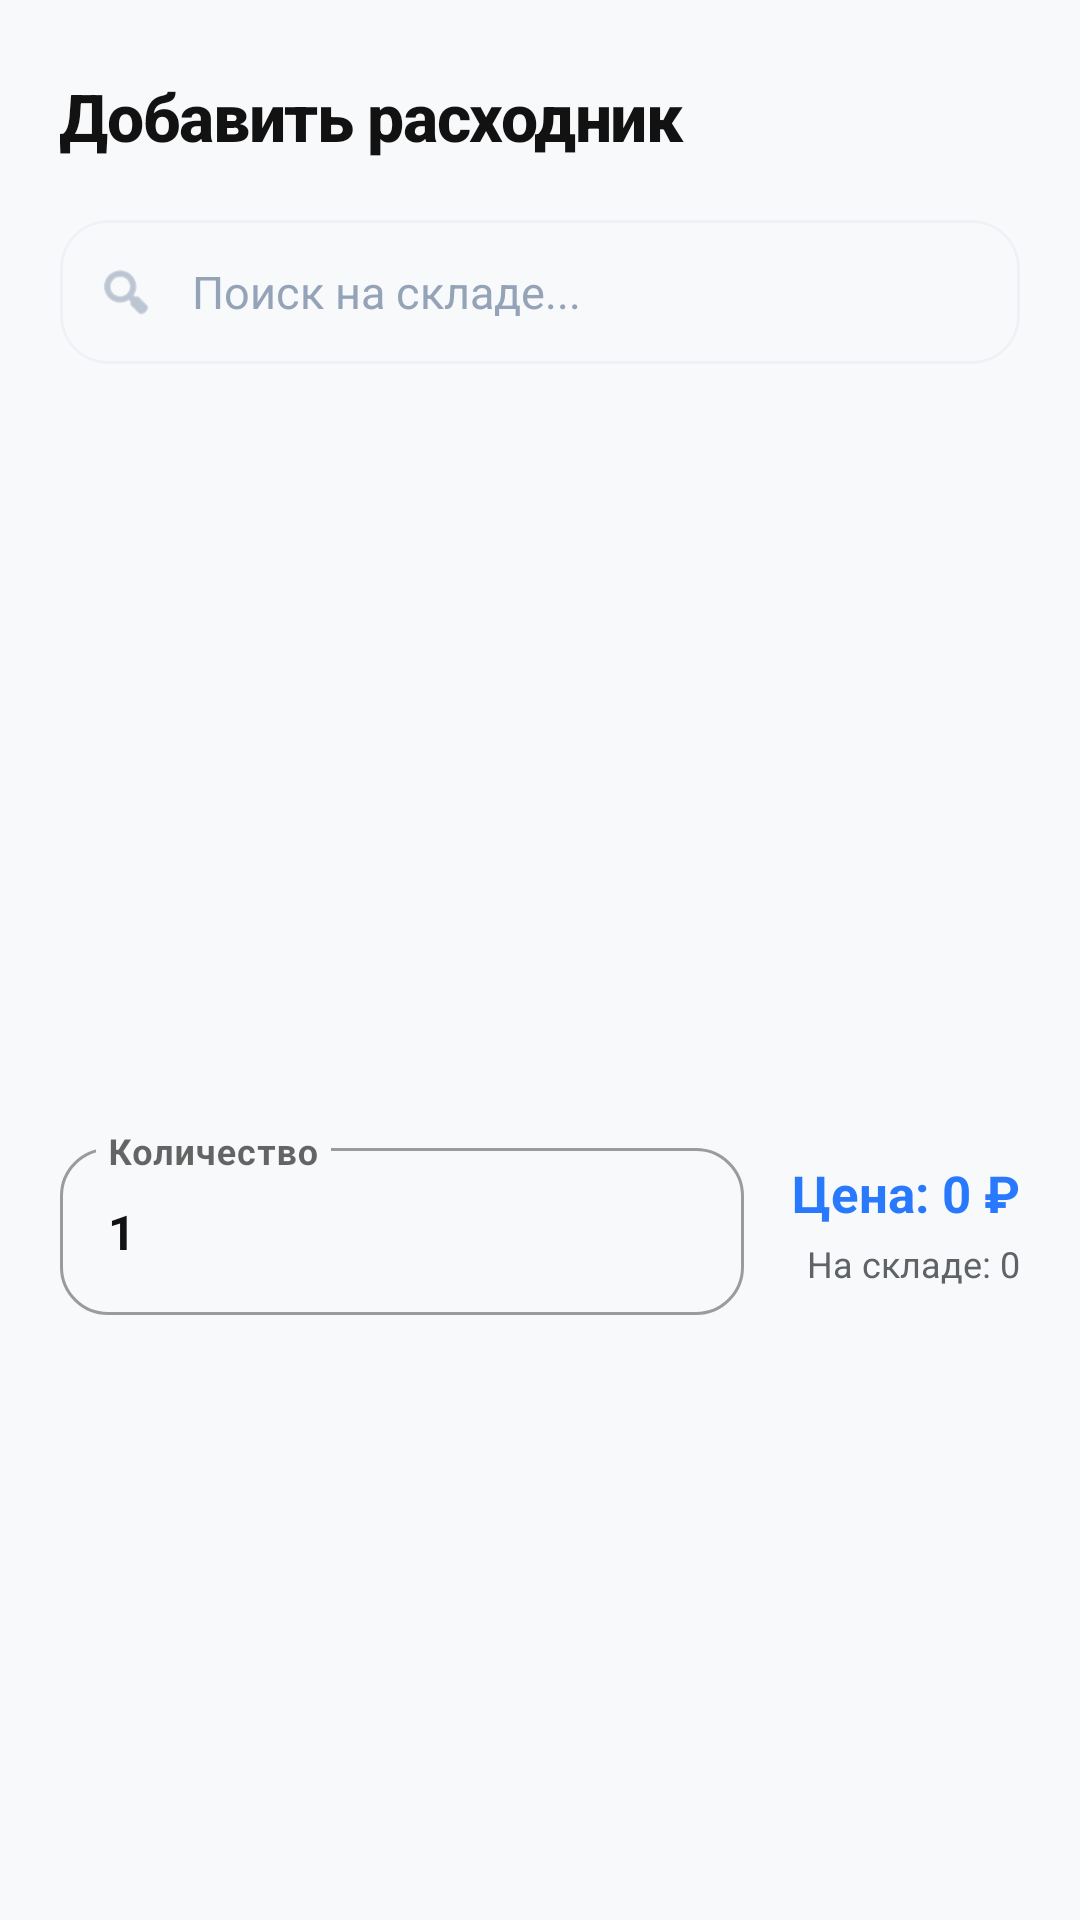

Named icons in this screenshot (1080x1920) and their bounding boxes, (x1, y1, x2, y2):
search: (104, 270, 148, 314)
